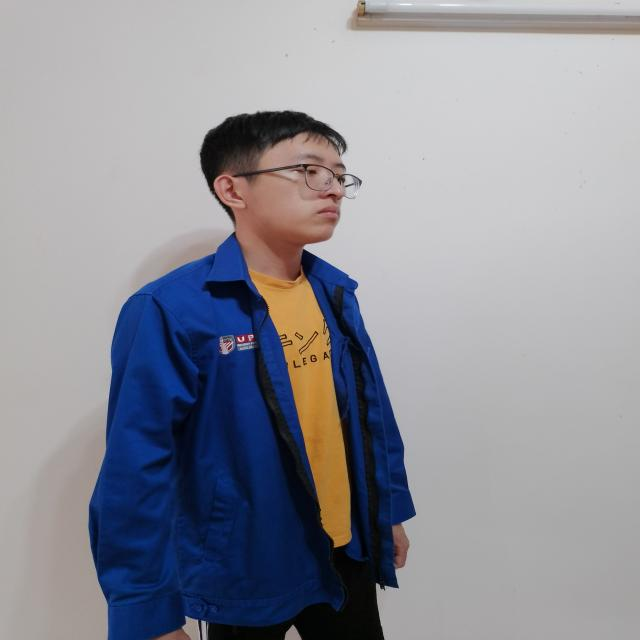person_with_labcoat: (89, 111, 415, 640)
